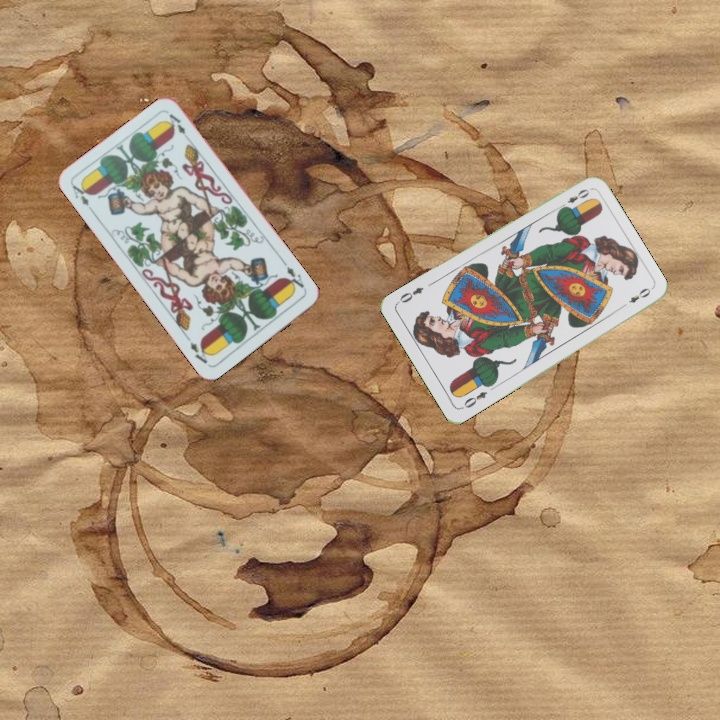EA: (68, 179, 97, 216), (281, 262, 308, 293)
EO: (555, 185, 592, 212), (457, 387, 490, 412)
